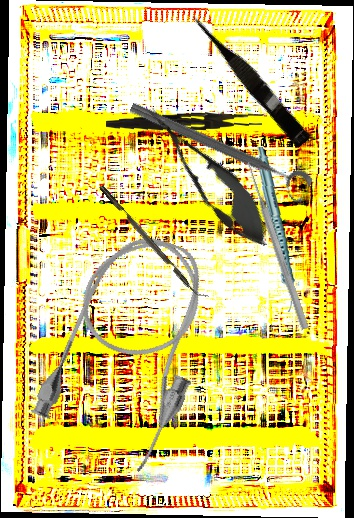Cannula: (25, 218, 237, 478)
Chopper: (98, 179, 210, 305)
Dressing Forceps: (105, 107, 263, 137)
Fixation Ring: (122, 96, 315, 207)
Handpiece: (251, 147, 300, 312)
Micro Scissor: (133, 95, 284, 259), (186, 6, 315, 149)
Pusher: (243, 160, 311, 331)
